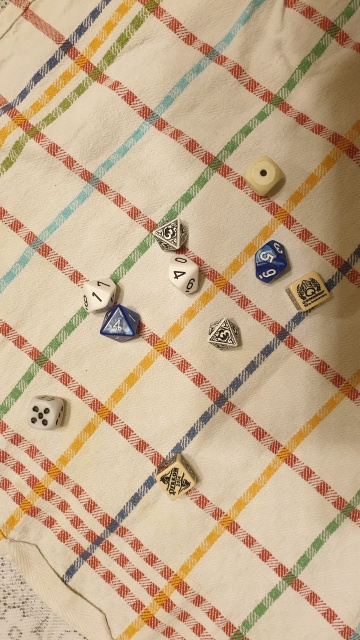d10-1: (75, 275, 116, 315)
d10-4: (158, 248, 202, 300), (98, 304, 143, 343)
d10-5: (249, 233, 288, 286)
d6-1: (242, 152, 285, 199)
d6-5: (22, 393, 65, 433)
d6p-1: (150, 450, 200, 504)
d6p-6: (285, 270, 331, 318)
d8p-3: (148, 211, 190, 254), (203, 311, 244, 355)
